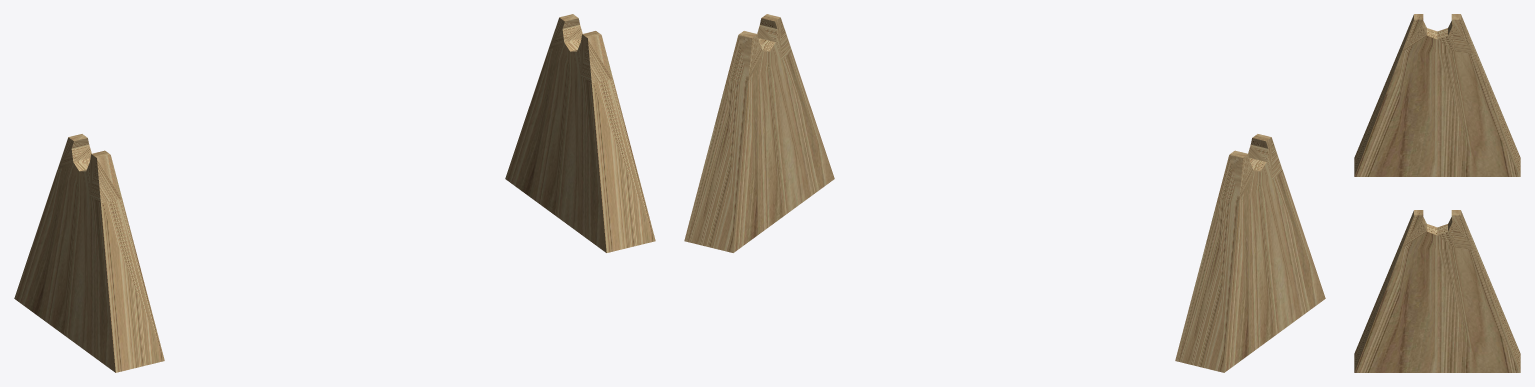
The model's file is DeskForGun.glb.
3 views of the same model, side by side, from view 1: azimuth 30°, elevation 25°; view 2: azimuth 150°, elevation 25°; view 3: azimuth 270°, elevation 25° (orthographic). The views are drawn at different scales.
Visible parts, largest first — view 1: Ножка пушки 1; view 2: Ножка пушки 1; view 3: Ножка пушки 1.
Part boxes in pixels (x1,y1,x2,y2): Ножка пушки 1: (14,14,655,372); Ножка пушки 1: (684,14,1325,372); Ножка пушки 1: (1354,14,1520,372).
Size of the model in its own units: 7.06 by 2.3 by 2.3.
2 materials, 2 textured.
